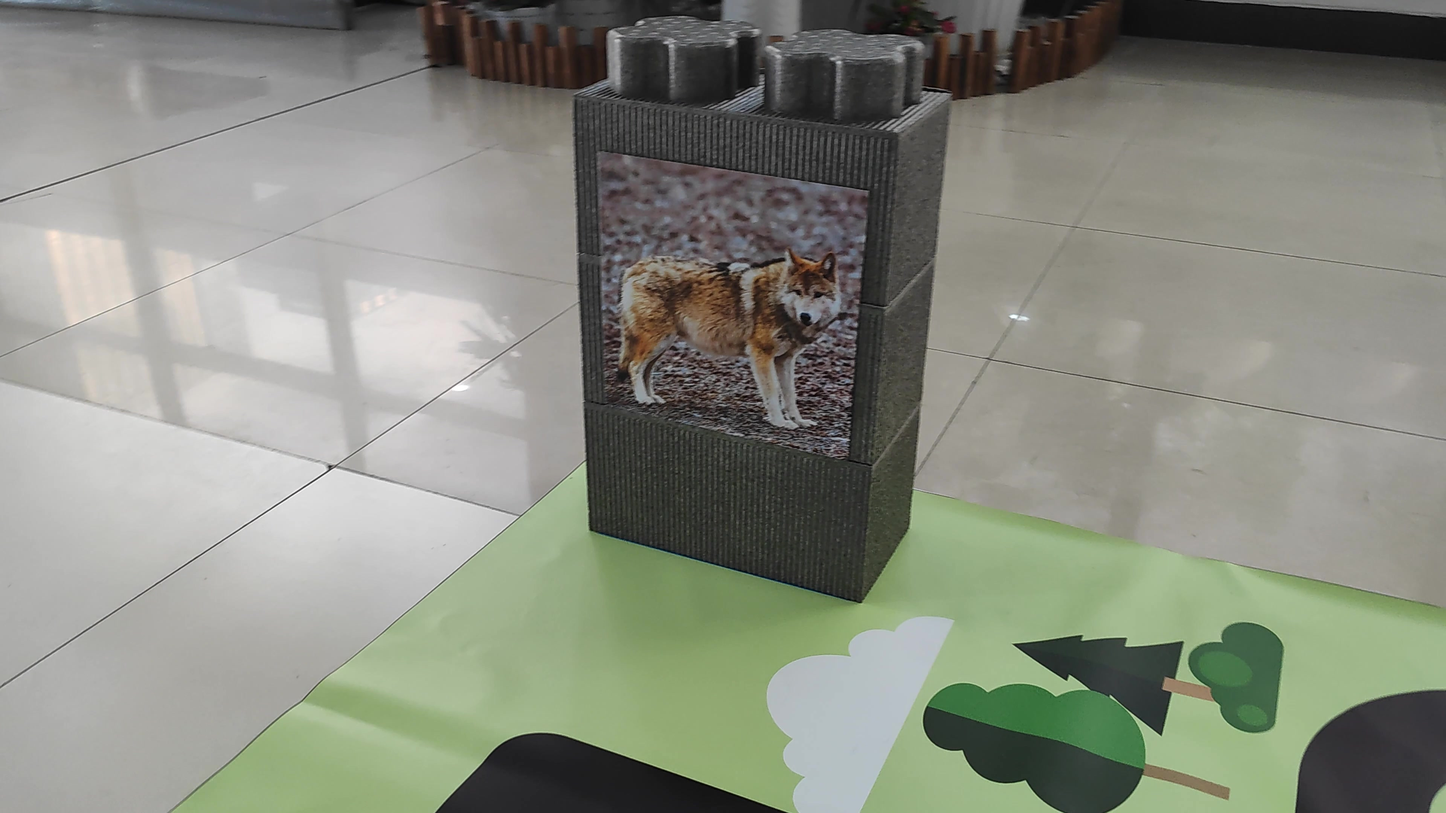wolf: (603, 225, 855, 459)
